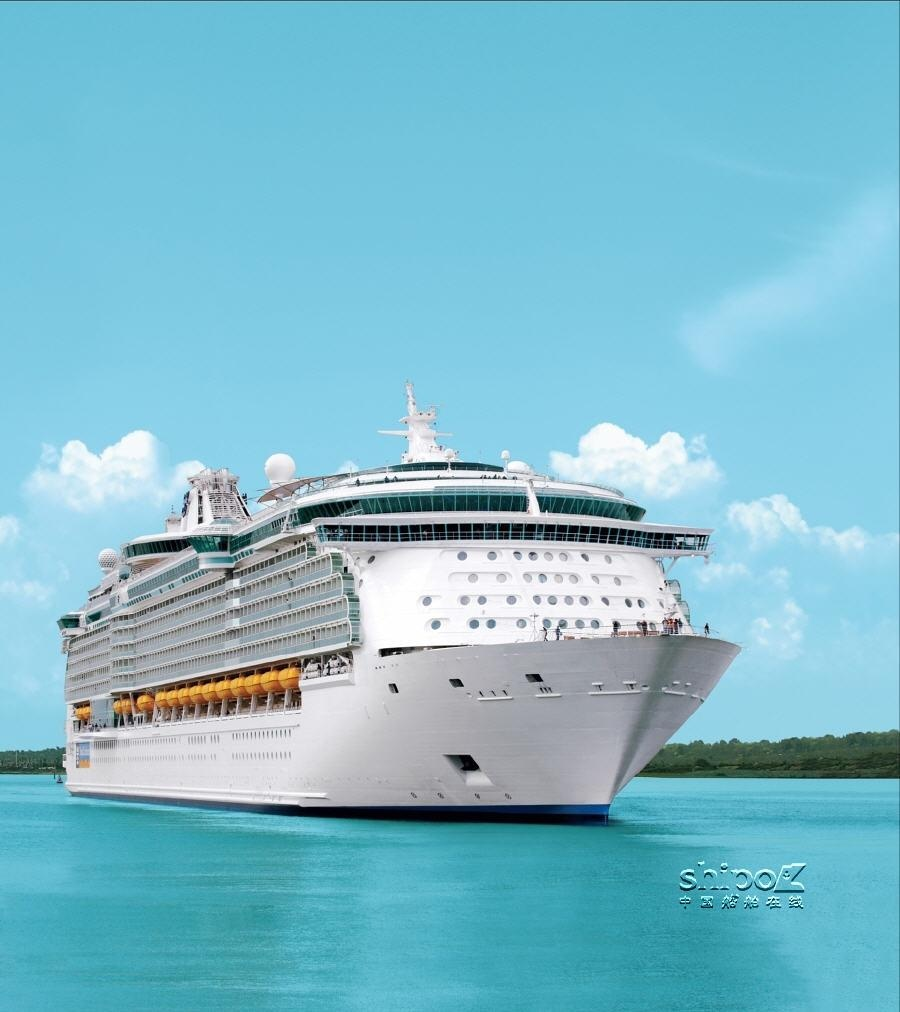youlun: (55, 401, 747, 831)
